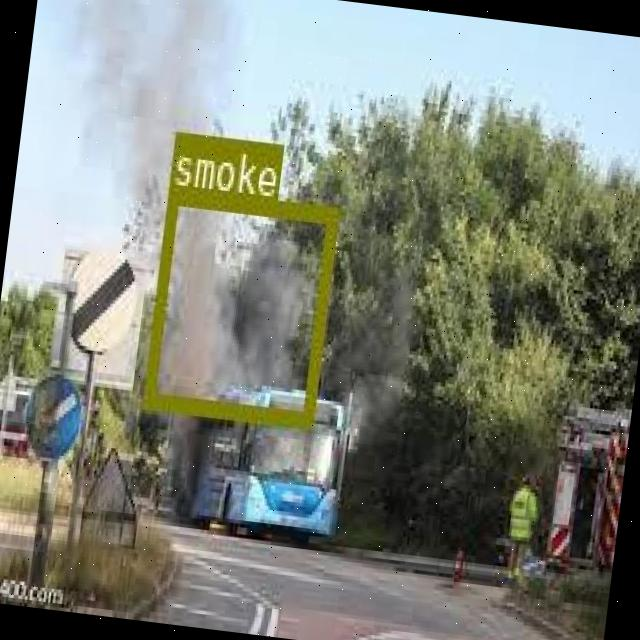smoke: (140, 186, 337, 424)
